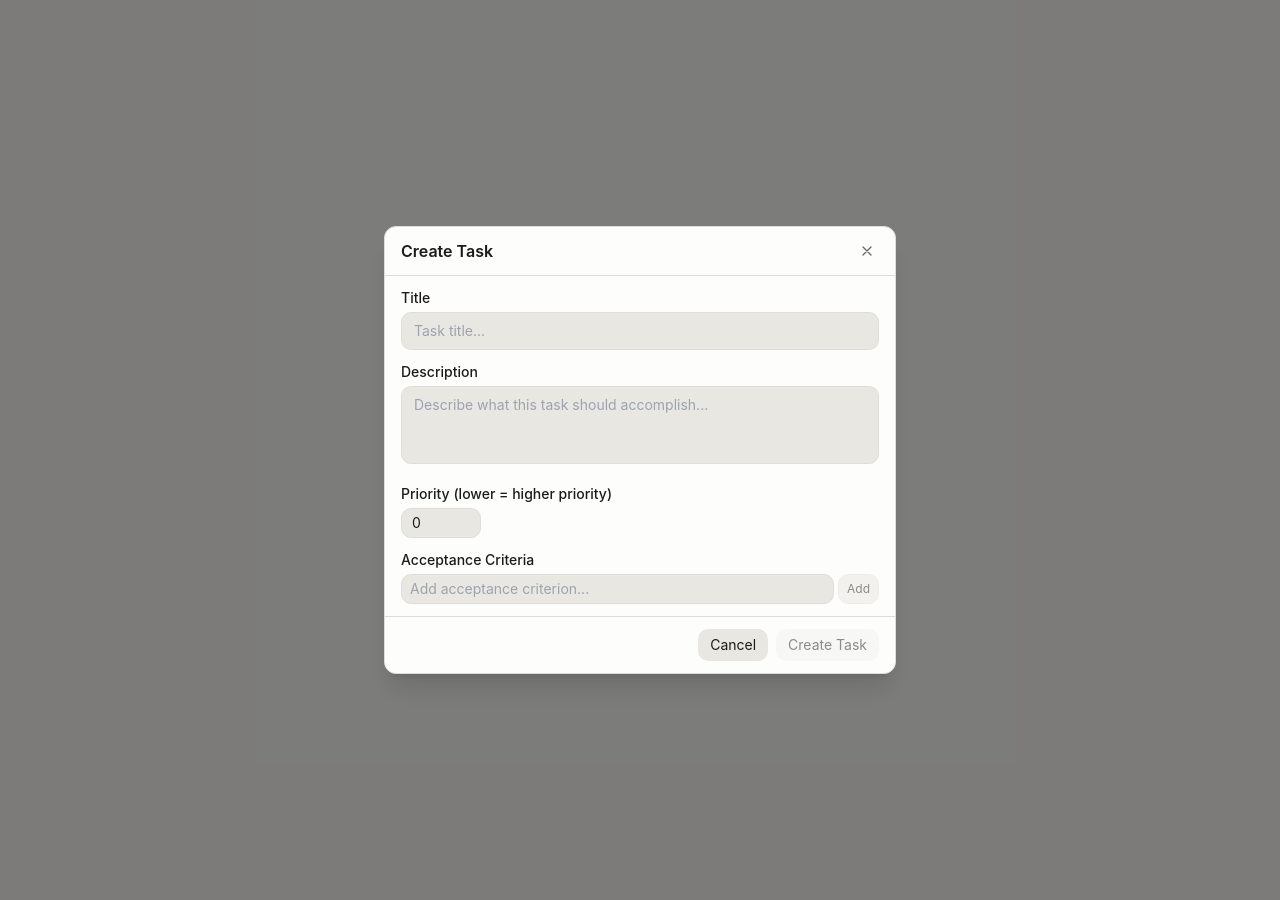
Test: CreateTaskDialog › removes acceptance criterion
// Add a criterion
Type "Test pass" into the field with placeholder "Add acceptance criterion..." at (618, 589), box [401, 574, 834, 604]
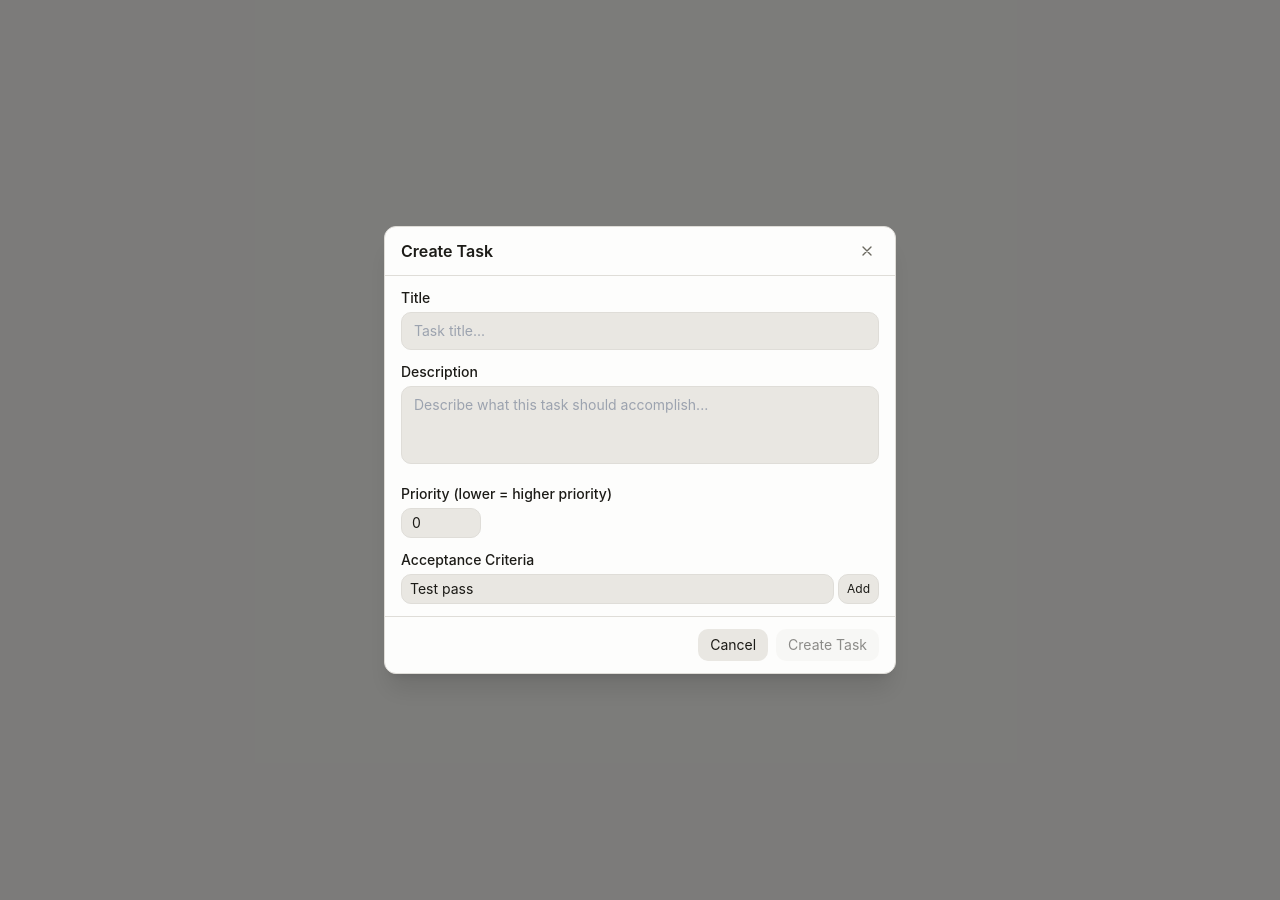
Click the button "Add" at (858, 589), box [838, 574, 879, 604]
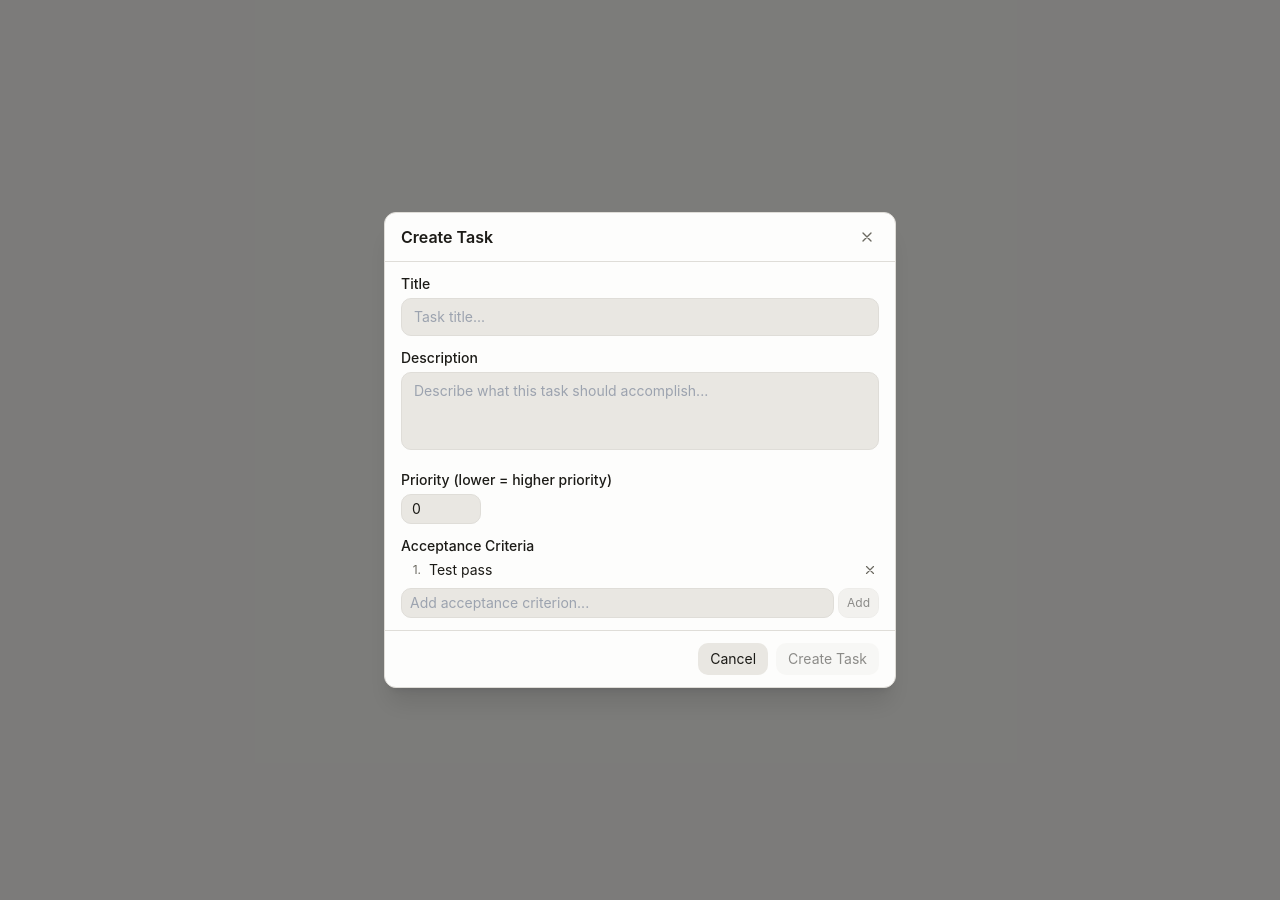
Expected: the text "Test pass" is shown, [429, 561, 492, 578]
Click the 2nd button at (870, 570), box [861, 561, 879, 579]
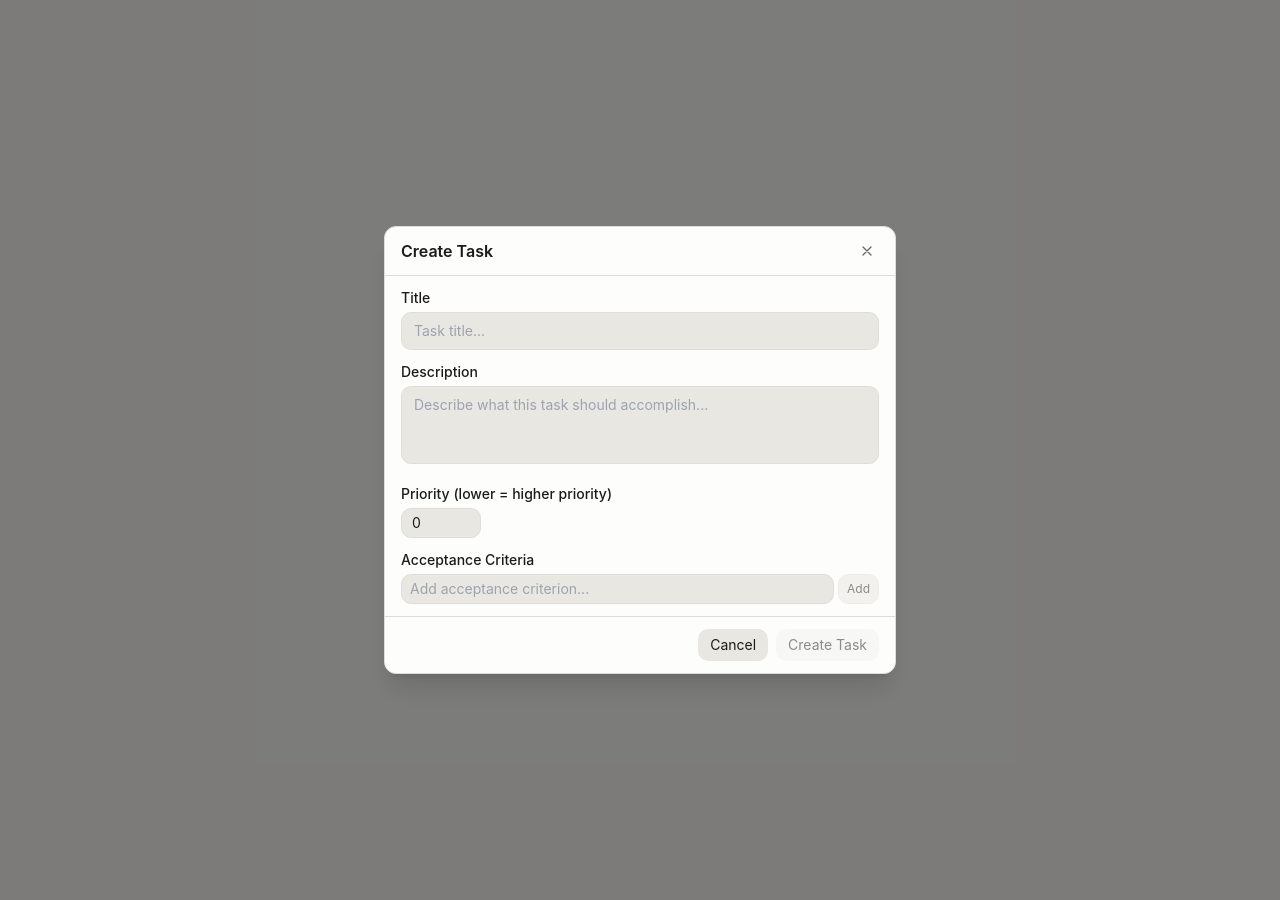
Expected: the text "Test pass" is gone
